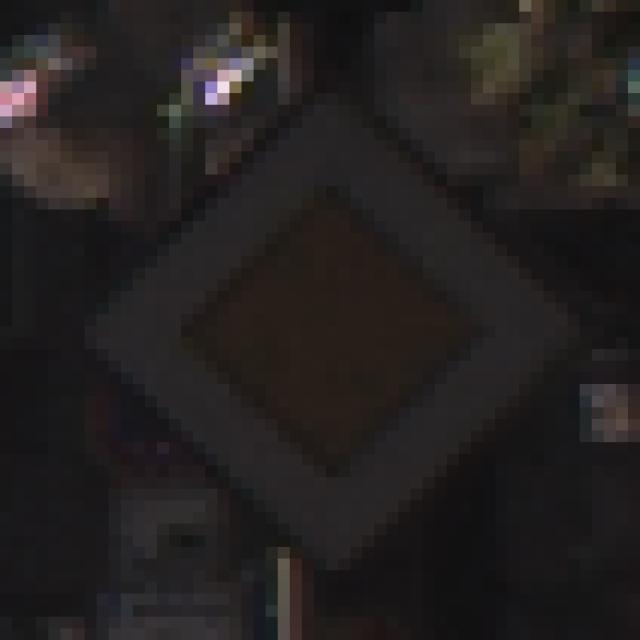Main Road: (62, 59, 581, 583)
